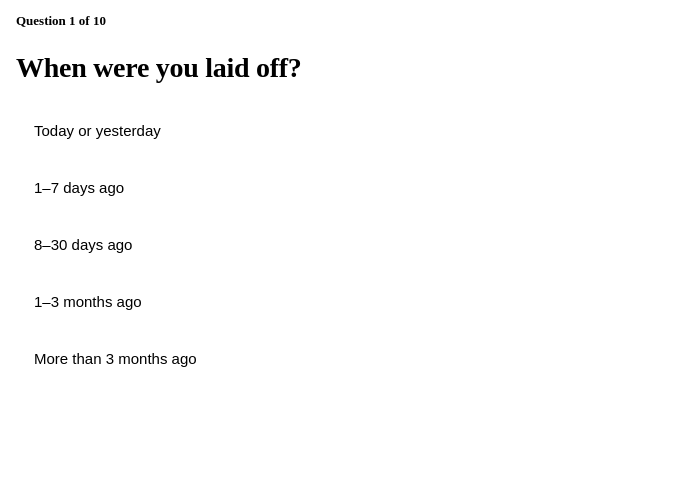
TriageWizard › renders a back button after question 1 that returns to the previous question
The width and height of the screenshot is (673, 498).
Click the button "Today or yesterday" at (97, 131), box left=16, top=108, right=656, bottom=153
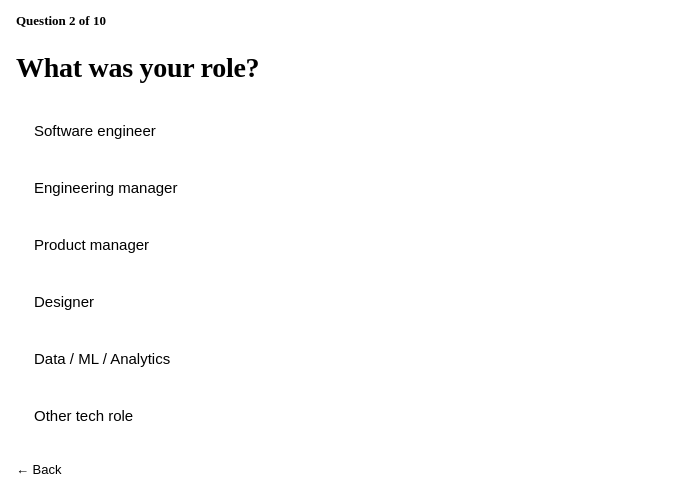
Click the button "← Back" at (39, 470), box left=16, top=458, right=62, bottom=481
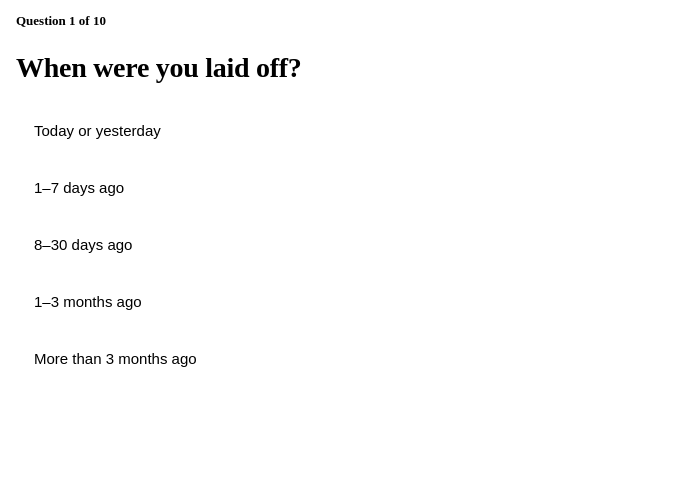
Check: the heading "When were you laid off?" is shown, box left=16, top=52, right=302, bottom=83
